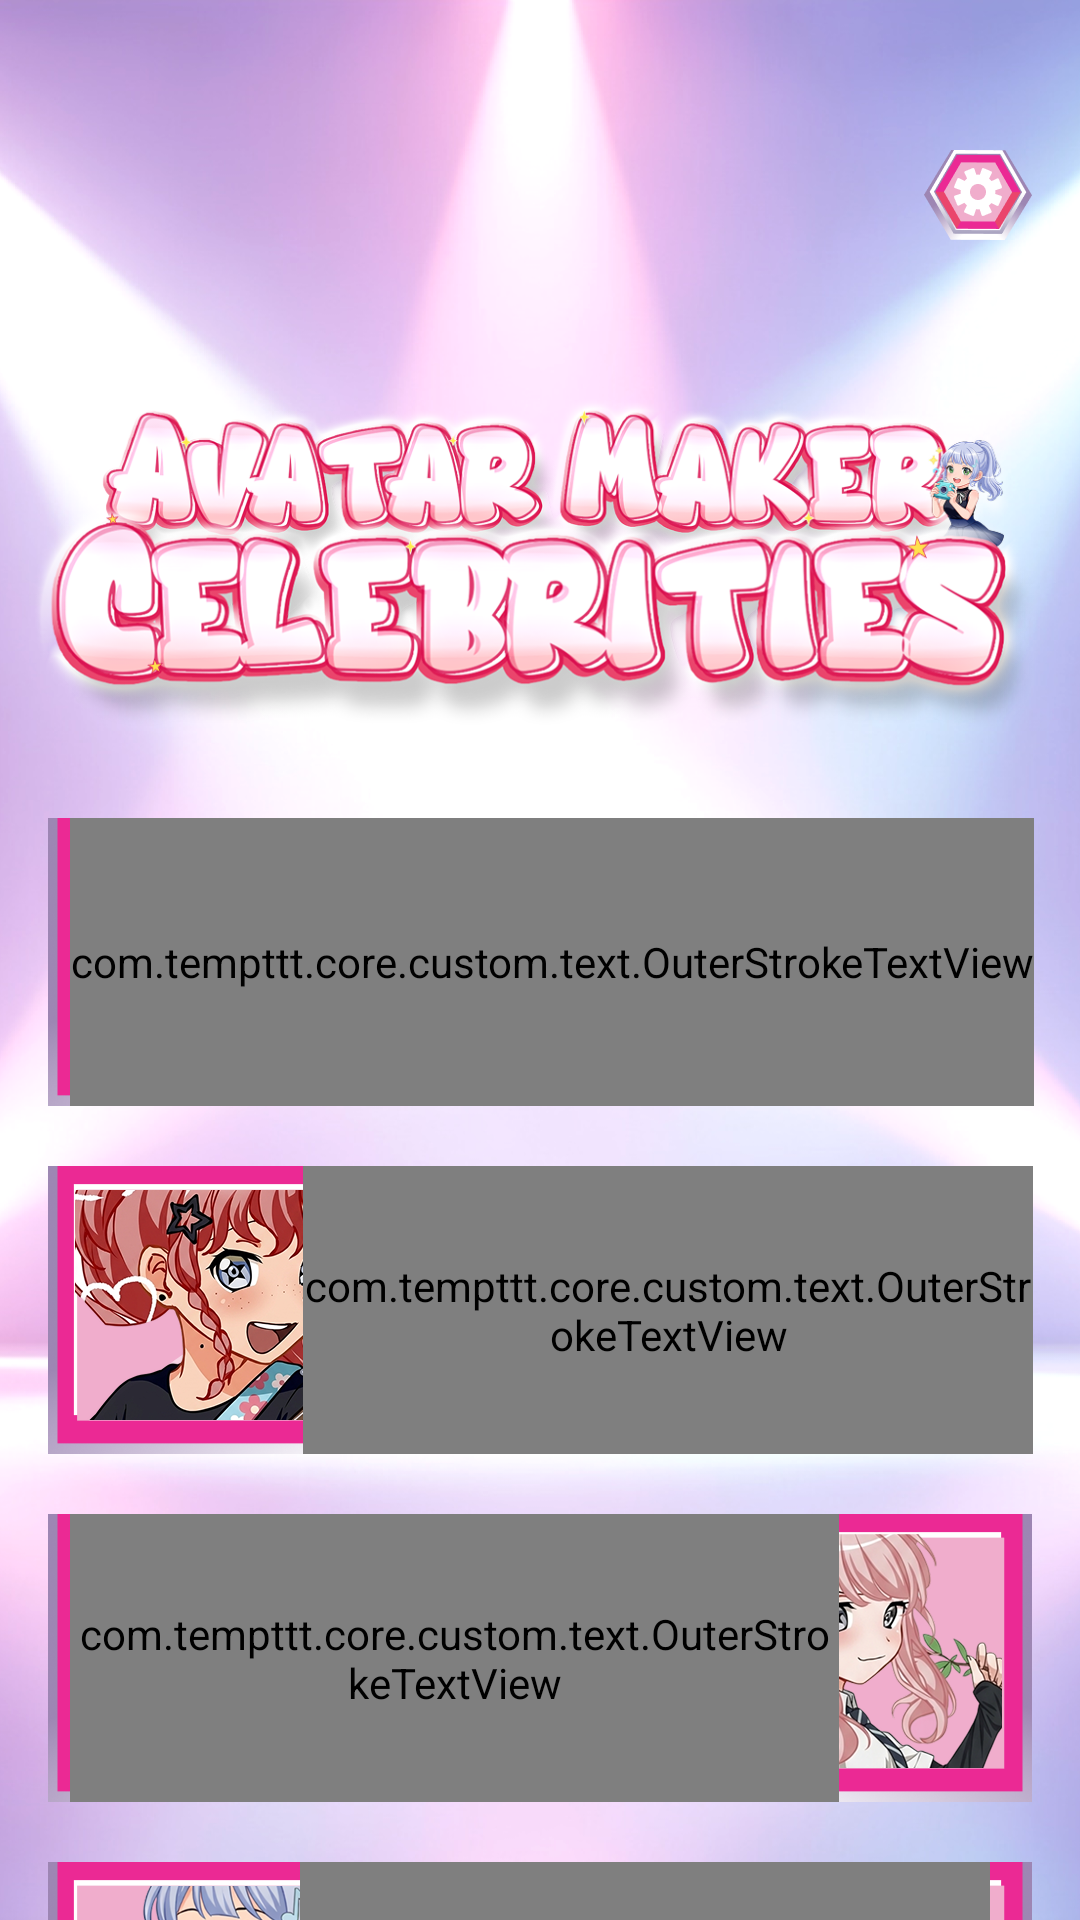

Point at icon controls on the screen. Image size 1080 x 1920, points as [x,y].
setting: [978,195]
